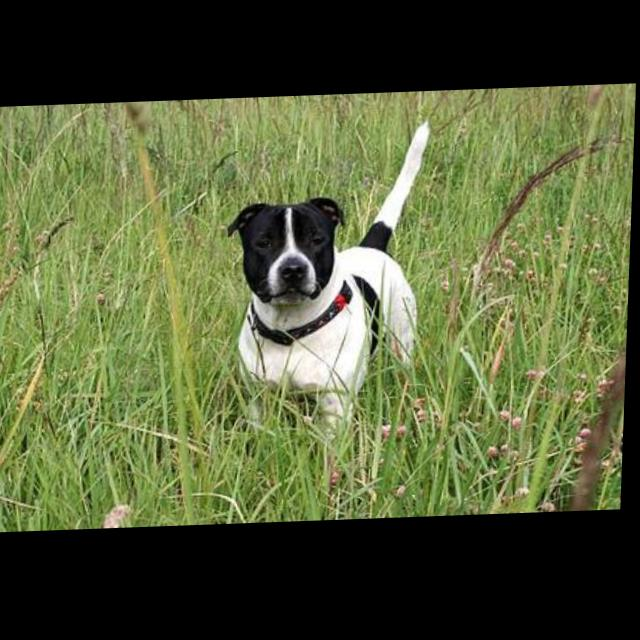amstaff: (221, 124, 433, 492)
